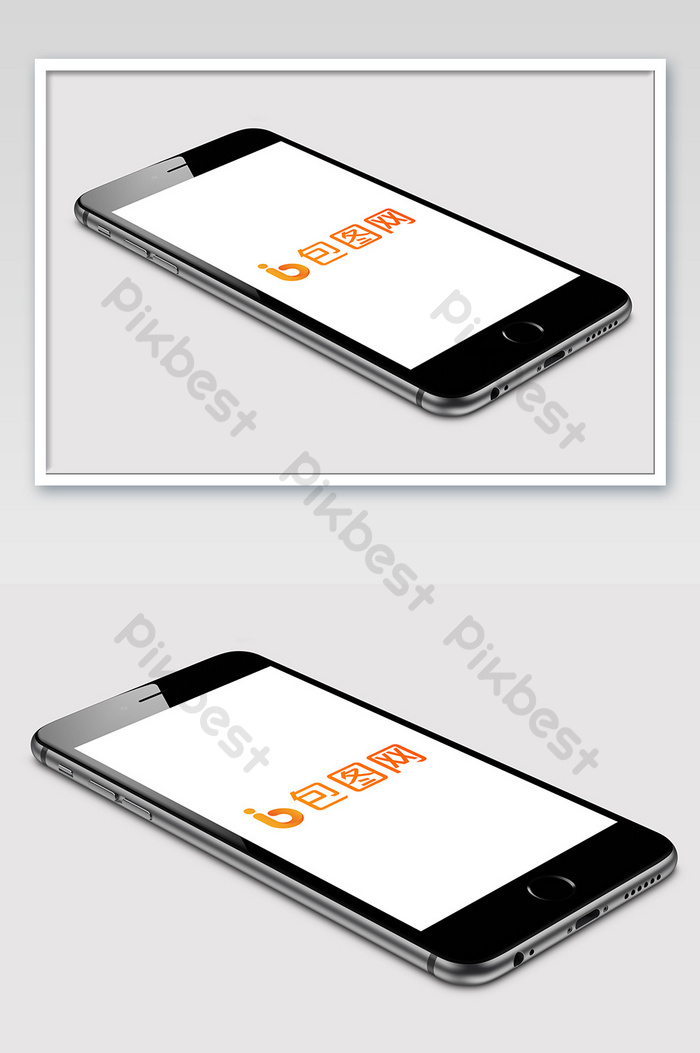Phone: (30, 649, 680, 990), (73, 125, 636, 422)
